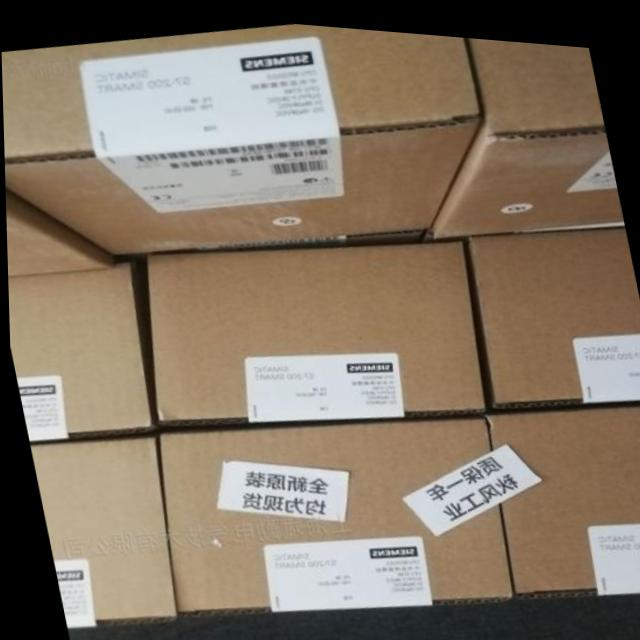box: (1, 19, 483, 253), (156, 406, 513, 616), (145, 230, 483, 422), (429, 30, 622, 231), (467, 213, 640, 401), (482, 390, 640, 591), (27, 433, 173, 627), (6, 259, 153, 443), (4, 187, 113, 278)
